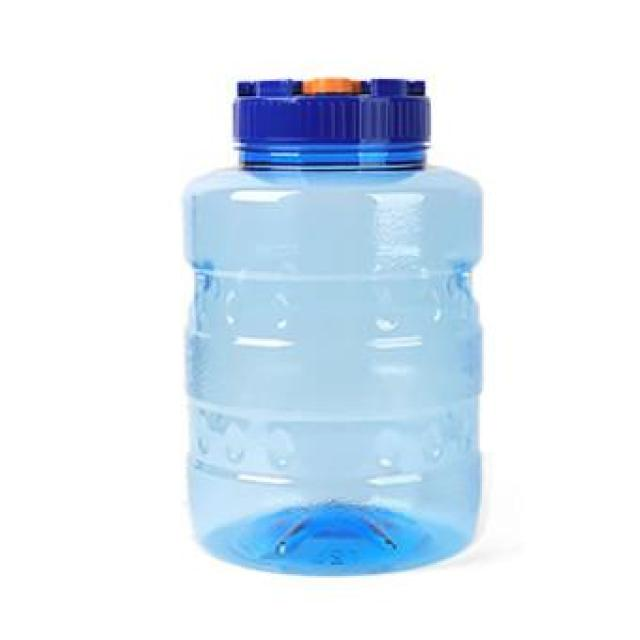bottle: (184, 69, 486, 571)
